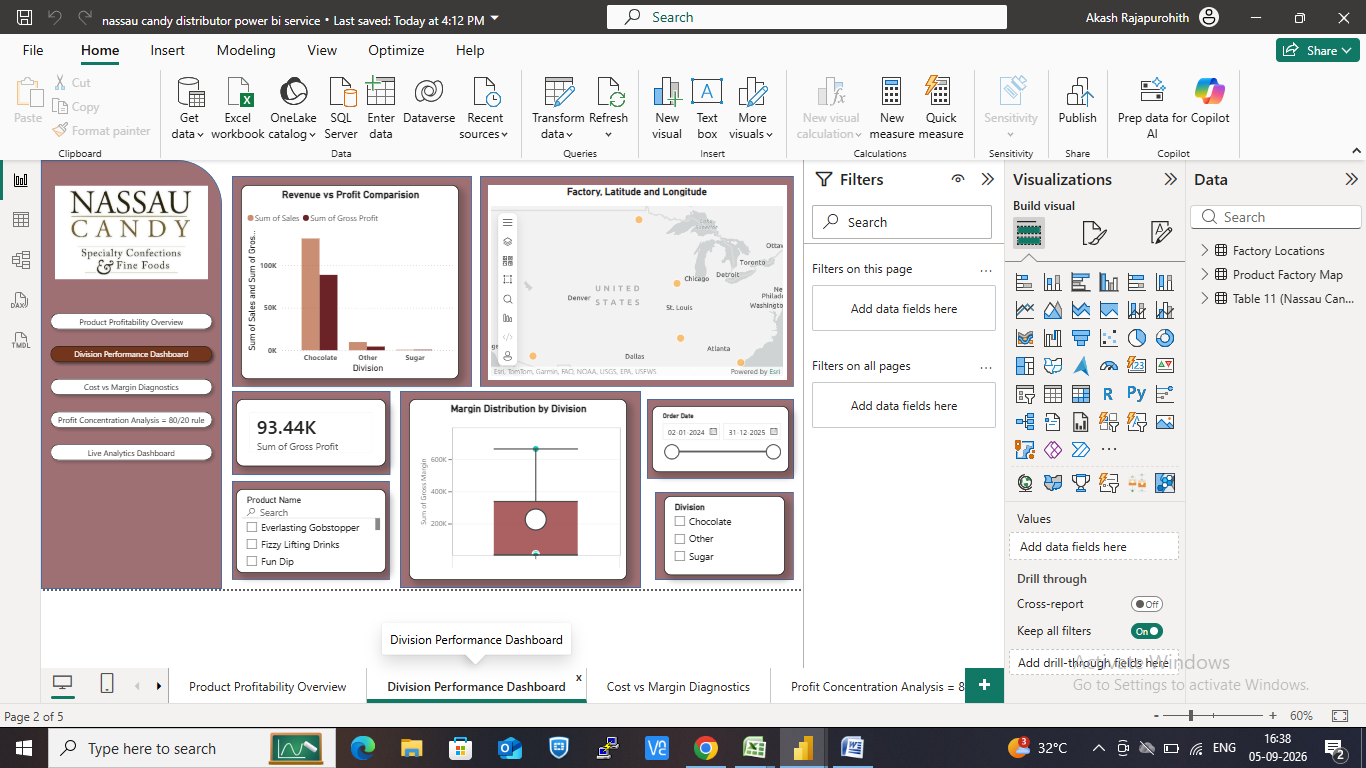

Layout of this report page (visuals, bound fields, positions):
{"tool":"powerbi","page":{"name":"Division Performance Dashboard","canvas":[1280,720],"ordinal":1},"visuals":[{"type":"shape","box":[320.8,26.9,403.1,354.4],"z":0},{"type":"shape","box":[603,388,404.8,330.9],"z":1000},{"type":"clusteredColumnChart","title":"Revenue vs Profit Comparision","fields":{"Category":["Table 11 (Nassau Candy Distributor 1).Division"],"Y":["Sum(Table 11 (Nassau Candy Distributor 1).Sales)","Sum(Table 11 (Nassau Candy Distributor 1).Gross Profit)"]},"box":[336,42,366.2,325.9],"z":2000},{"type":"BoxandWhiskerByMAQ1823AD39DT234AB532063E128AX","title":"Margin Distribution by Division","fields":{"category":["Table 11 (Nassau Candy Distributor 1).Division"],"measure":["Sum(Table 11 (Nassau Candy Distributor 1).Gross Margin)"]},"box":[618.2,401.5,366.2,304],"z":3000},{"type":"group","id":"g1","title":"Group 1","box":[0,0,304,720.6],"z":4000},{"type":"image","box":[23.5,35.3,257,173],"z":5000},{"type":"shape","box":[1031.4,557.7,233.5,147.8],"z":6000},{"type":"group","id":"g2","title":"Group 2","box":[0,0,304,720.6],"z":6502,"group":"g1"},{"type":"shape","box":[0,0,304,720.6],"z":7000,"group":"g2"},{"type":"slicer","fields":{"Values":["Table 11 (Nassau Candy Distributor 1).Division"]},"box":[1046.5,564.4,203.3,132.7],"z":7000},{"type":"pageNavigator","box":[6.7,248.6,290.6,265.4],"z":7500,"group":"g2"},{"type":"shape","box":[1018,401.5,246.9,134.4],"z":8000},{"type":"slicer","fields":{"Values":["Table 11 (Nassau Candy Distributor 1).Order Date"]},"box":[1026.4,413.2,230.1,110.9],"z":9000},{"type":"shape","box":[320.4,387.3,265.9,140.9],"z":10000},{"type":"shape","box":[320.8,539.2,265.4,166.3],"z":12000},{"type":"slicer","fields":{"Values":["Table 11 (Nassau Candy Distributor 1).Product Name"]},"box":[327.6,552.7,251.8,140.9],"z":13000},{"type":"shape","box":[737.4,26.9,527.5,354.4],"z":13001},{"type":"esriVisual","fields":{"Latitude":["Sheet1 (2).Latitude"],"Location":["Sheet1 (2).Factory"],"Longitude":["Sheet1 (2).Longitude"]},"box":[750.9,42,500.6,325.9],"z":13002},{"type":"cardVisual","fields":{"Data":["Sum(Table 11 (Nassau Candy Distributor 1).Gross Profit)"]},"box":[327.6,401.5,252,112.5],"z":13003}]}

Visuals, with their boxes on the page's 1280x720 design canvas (x1, y1, x2, y2). These are canvas units, not pixel positions in the 1366x768 screenshot, which may show the page scaled, cropped or inside an application window:
shape: box=[321, 27, 724, 381]
shape: box=[603, 388, 1008, 719]
"Revenue vs Profit Comparision" clusteredColumnChart: box=[336, 42, 702, 368]
"Margin Distribution by Division" BoxandWhiskerByMAQ1823AD39DT234AB532063E128AX: box=[618, 402, 984, 706]
"Group 1" group: box=[0, 0, 304, 721]
image: box=[24, 35, 280, 208]
shape: box=[1031, 558, 1265, 706]
"Group 2" group: box=[0, 0, 304, 721]
shape: box=[0, 0, 304, 721]
slicer - Table 11 (Nassau Candy Distributor 1).Division: box=[1046, 564, 1250, 697]
pageNavigator: box=[7, 249, 297, 514]
shape: box=[1018, 402, 1265, 536]
slicer - Table 11 (Nassau Candy Distributor 1).Order Date: box=[1026, 413, 1256, 524]
shape: box=[320, 387, 586, 528]
shape: box=[321, 539, 586, 706]
slicer - Table 11 (Nassau Candy Distributor 1).Product Name: box=[328, 553, 579, 694]
shape: box=[737, 27, 1265, 381]
esriVisual - Sheet1 (2).Latitude x Sheet1 (2).Factory: box=[751, 42, 1252, 368]
cardVisual - Sum(Table 11 (Nassau Candy Distributor 1).Gross Profit): box=[328, 402, 580, 514]
